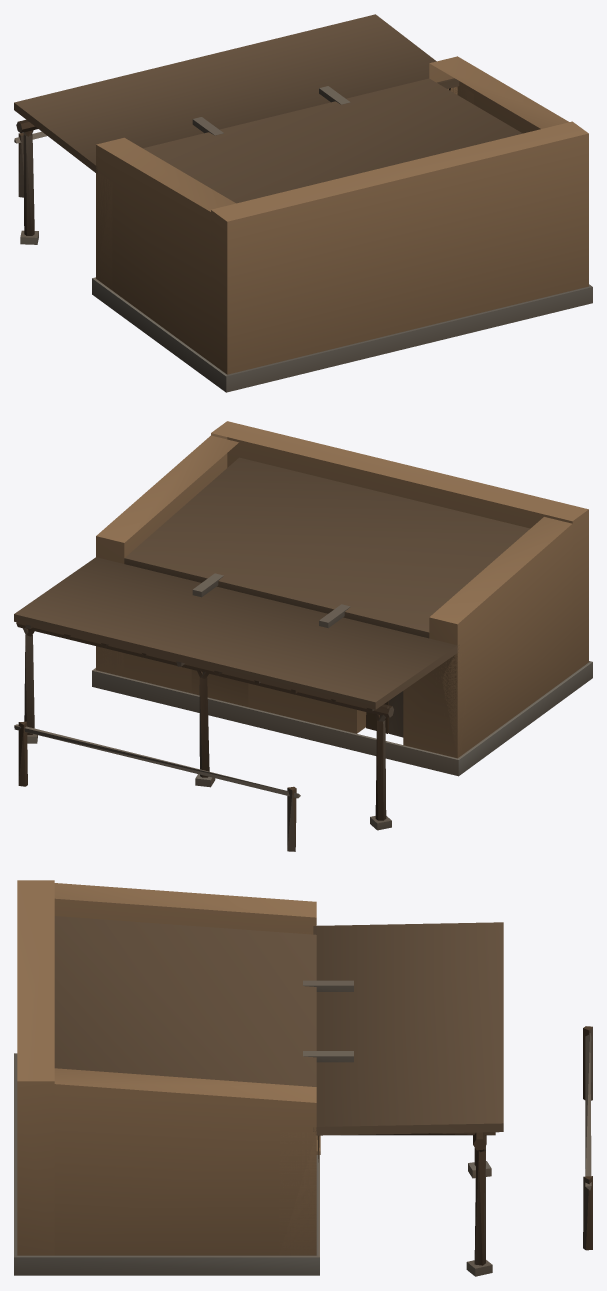
File: casa_pulperia_b_lod.glb
The picture shows the model from 3 angles, top to bottom: view 1: azimuth 30°, elevation 25°; view 2: azimuth 150°, elevation 25°; view 3: azimuth 270°, elevation 25°; orthographic projection. The views are drawn at different scales.
Visible parts, largest first — view 1: casa_pulperia_b; view 2: casa_pulperia_b; view 3: casa_pulperia_b.
Boxes of the visible parts, bbox=[...] form: casa_pulperia_b: bbox=[14, 14, 592, 392]; casa_pulperia_b: bbox=[14, 421, 592, 851]; casa_pulperia_b: bbox=[14, 880, 592, 1276].
Bounding box in the file's own units: 7.2 × 3.13 × 8.52.
